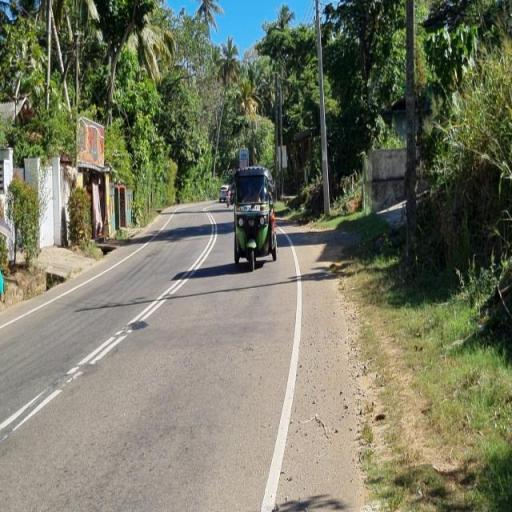double_white_line: (64, 210, 216, 382)
